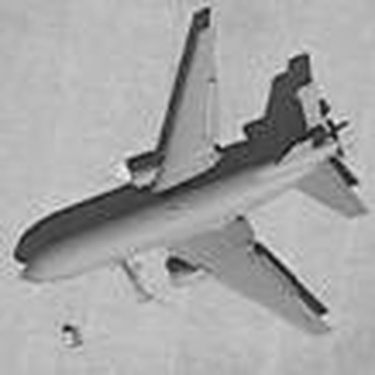airplane: (4, 6, 368, 342)
